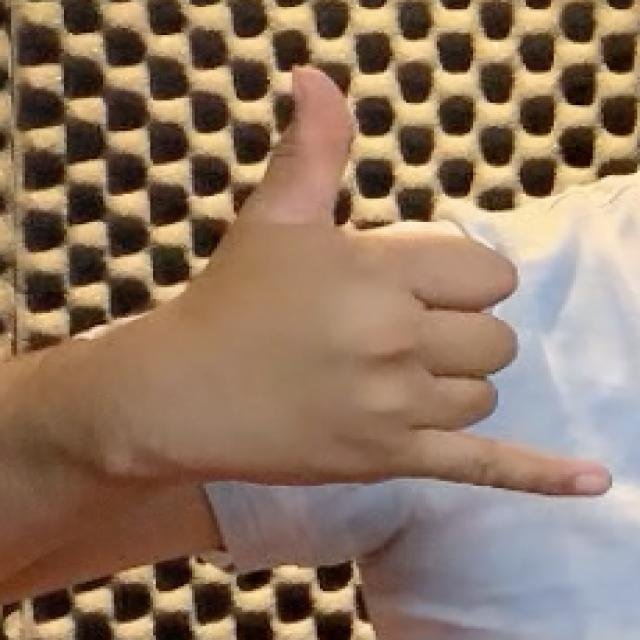Y: (98, 56, 619, 502)
